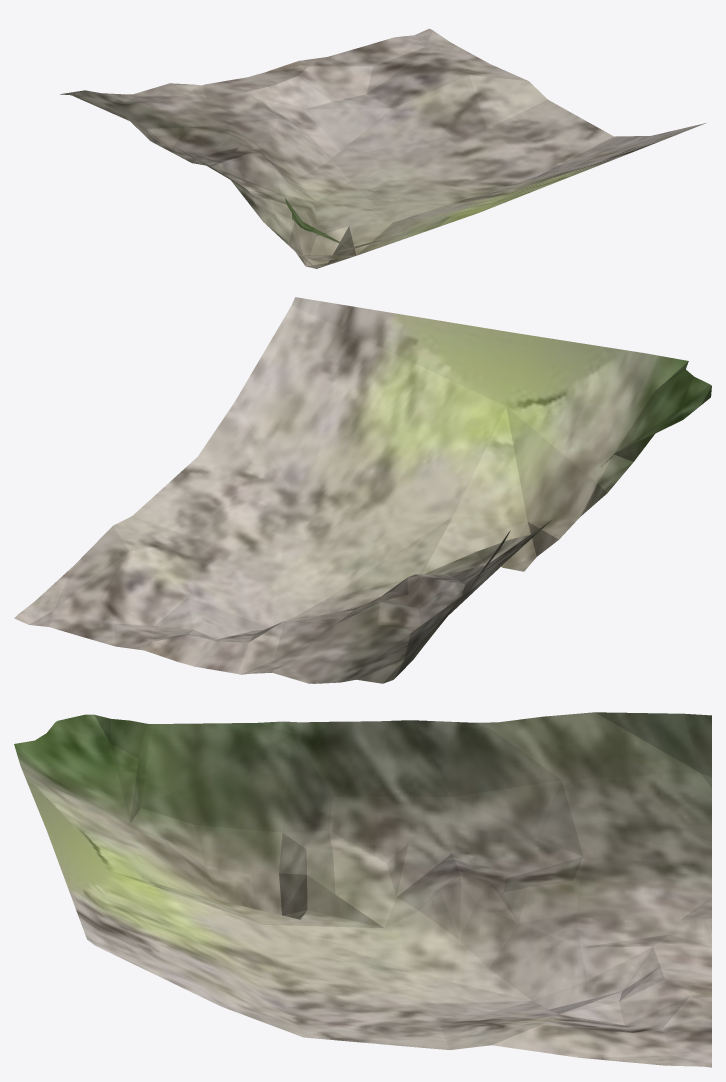
3 renders of one model, top to bottom at view 1: azimuth 30°, elevation 25°; view 2: azimuth 150°, elevation 25°; view 3: azimuth 270°, elevation 25°, orthographic. The views are drawn at different scales.
Size of the model in its own units: 2.96 by 0.9695 by 3.84.
1 material, 1 textured.
